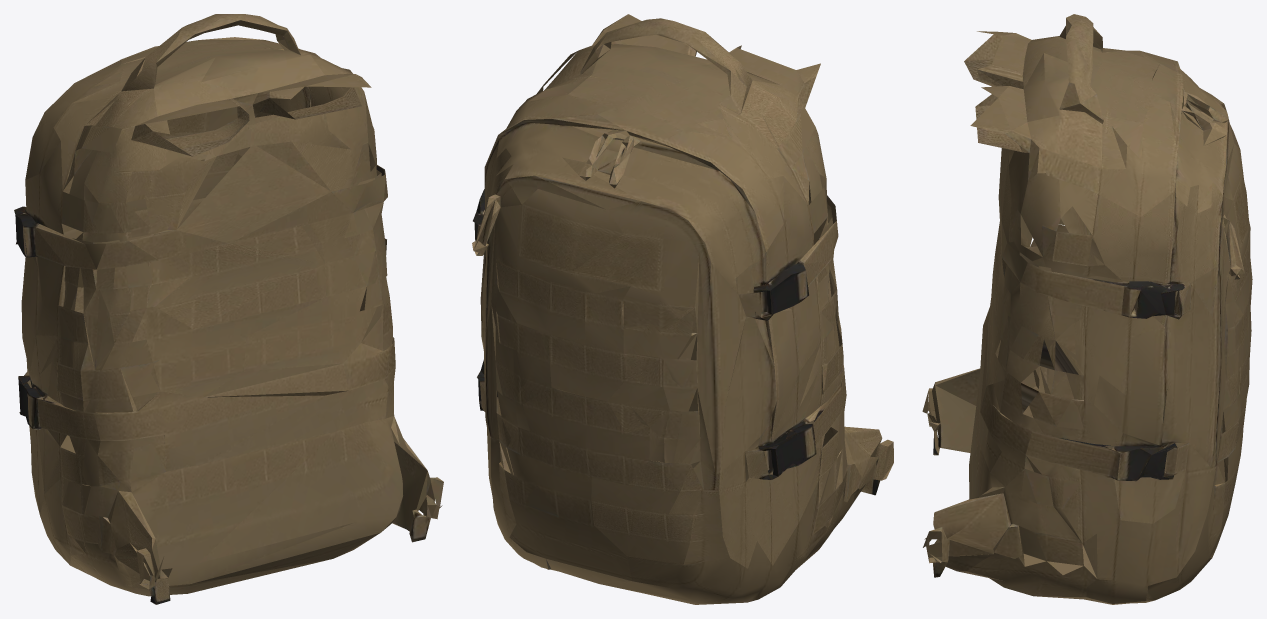
The model's file is pmc_backpack.glb.
3 renders of one model, left to right at view 1: azimuth 30°, elevation 25°; view 2: azimuth 150°, elevation 25°; view 3: azimuth 270°, elevation 25°, orthographic. The views are drawn at different scales.
Parts seen in each view (by area): view 1: pmc_backpack; view 2: pmc_backpack; view 3: pmc_backpack.
Boxes of the visible parts, x1=… form: pmc_backpack: x1=14, y1=14, x2=443, y2=604; pmc_backpack: x1=472, y1=14, x2=893, y2=604; pmc_backpack: x1=922, y1=14, x2=1252, y2=604.
Bounding box in the file's own units: 0.2987 × 0.4669 × 0.2633.
Materials: 1 (1 with a texture image).
